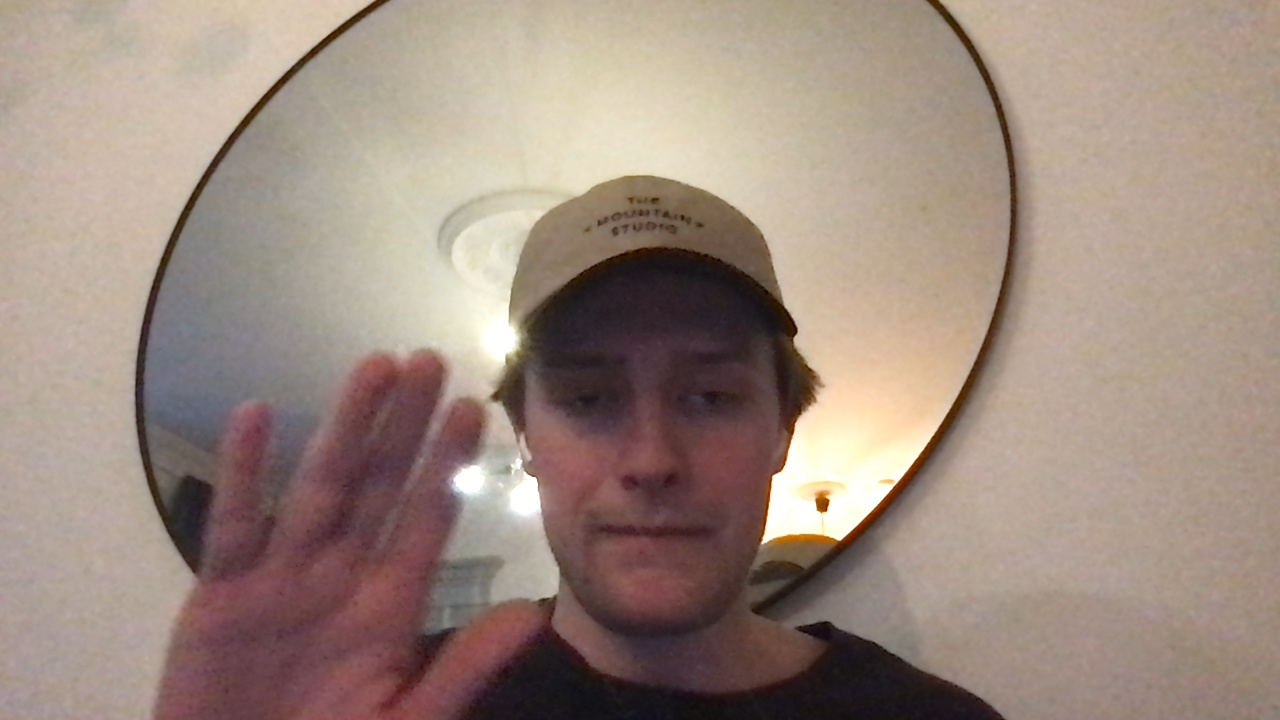Hello: (144, 320, 555, 720)
